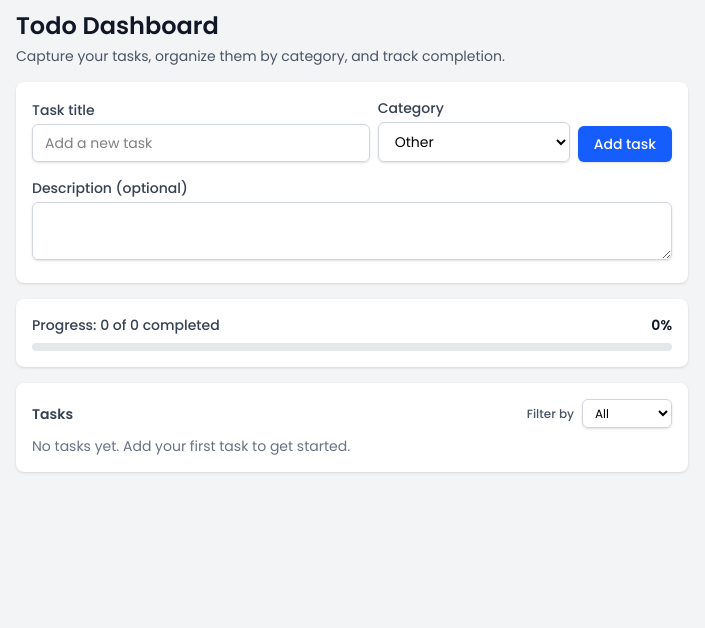
Test: TodoDashboard delete task › deletes correct task when multiple tasks exist
The image size is (705, 628).
Step 1. Type "Task 1" into the field labelled "Task title" → (201, 143), box 32,124 -> 370,162
Step 2. Click the button "Add task" → (625, 144), box 578,126 -> 672,162
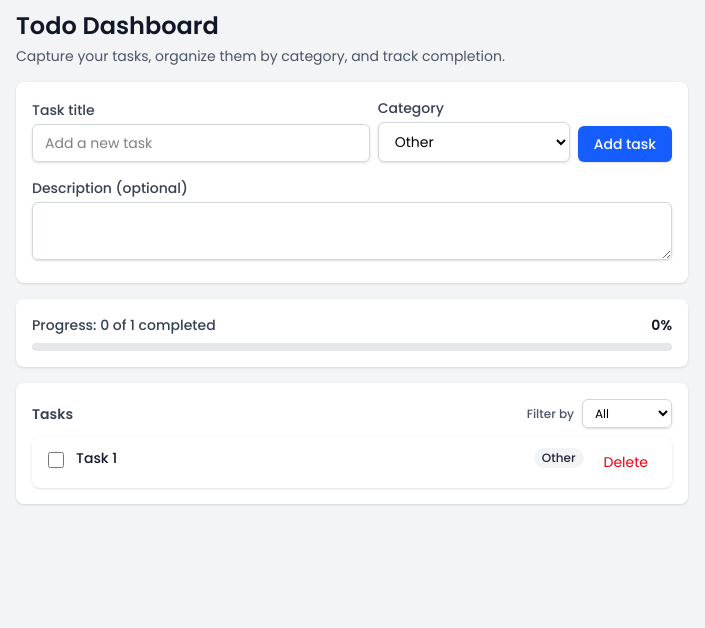
Step 3. Type "Task 2" into the field labelled "Task title" → (201, 143), box 32,124 -> 370,162
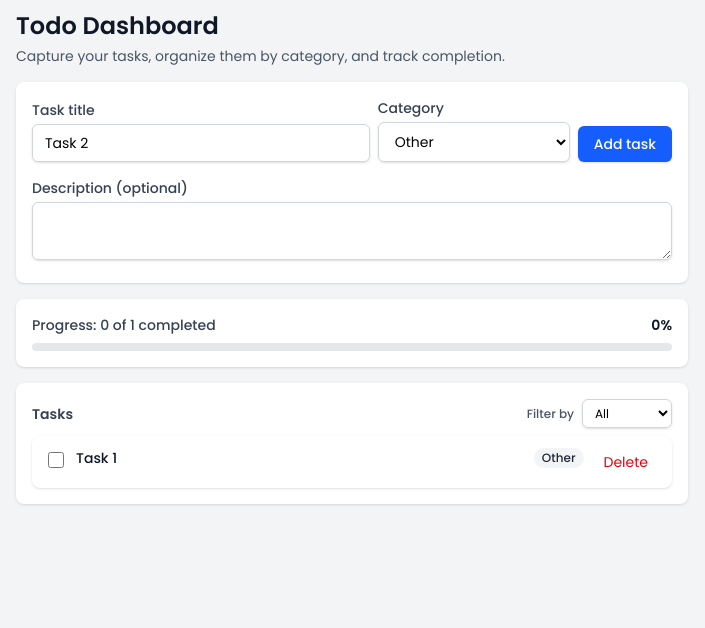
Step 4. Click the button "Add task" → (625, 144), box 578,126 -> 672,162
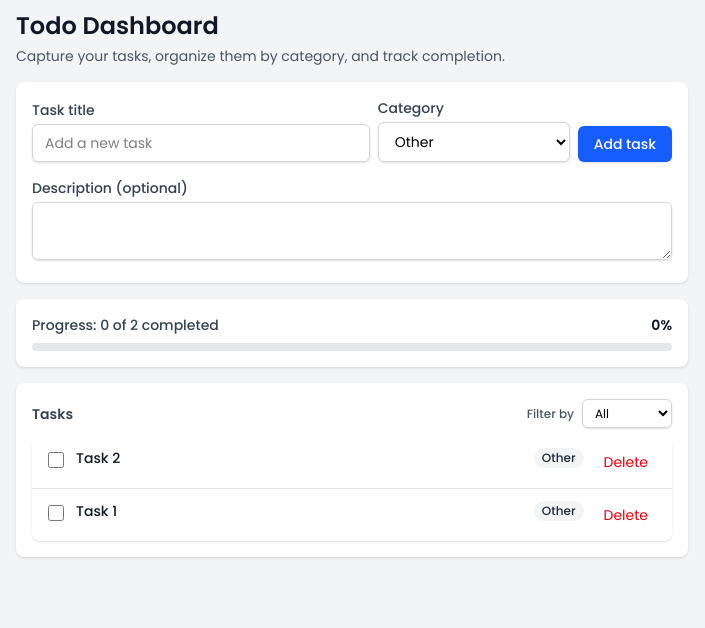
Step 5. Type "Task 3" into the field labelled "Task title" → (201, 143), box 32,124 -> 370,162
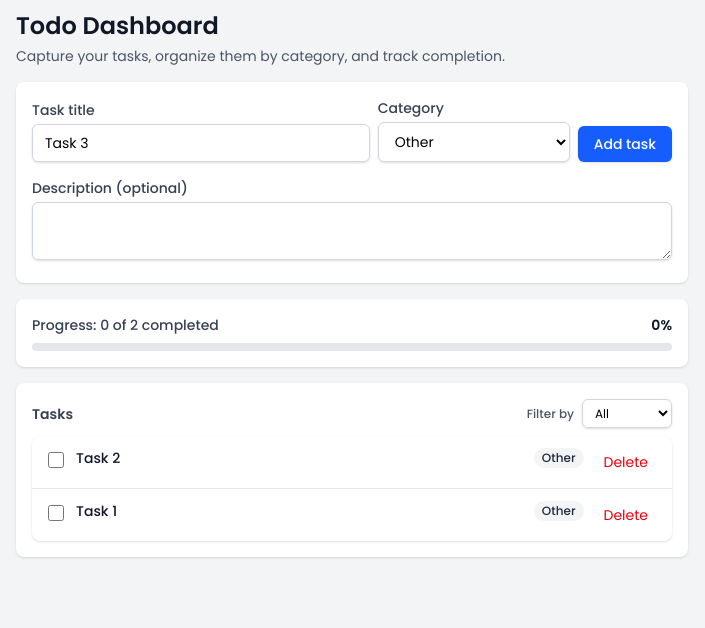
Step 6. Click the button "Add task" → (625, 144), box 578,126 -> 672,162
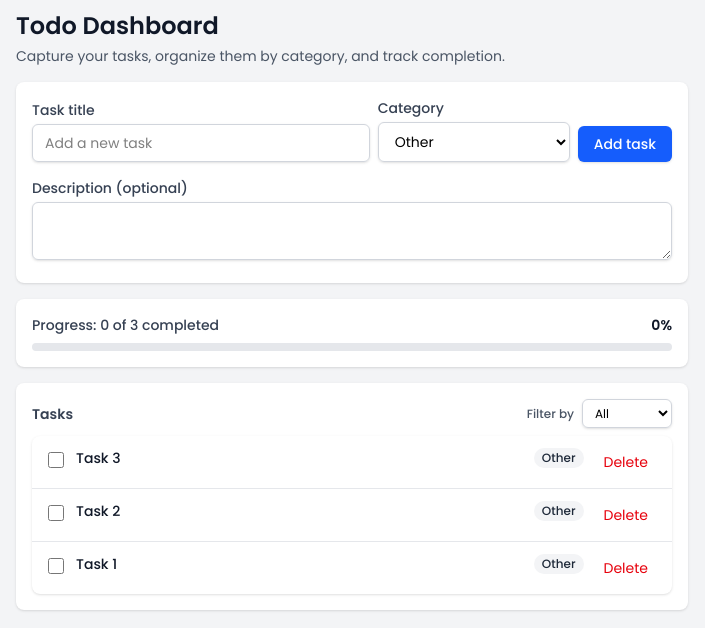
Step 7. Click the button with aria-label "delete task" → (626, 515), box 596,501 -> 656,529
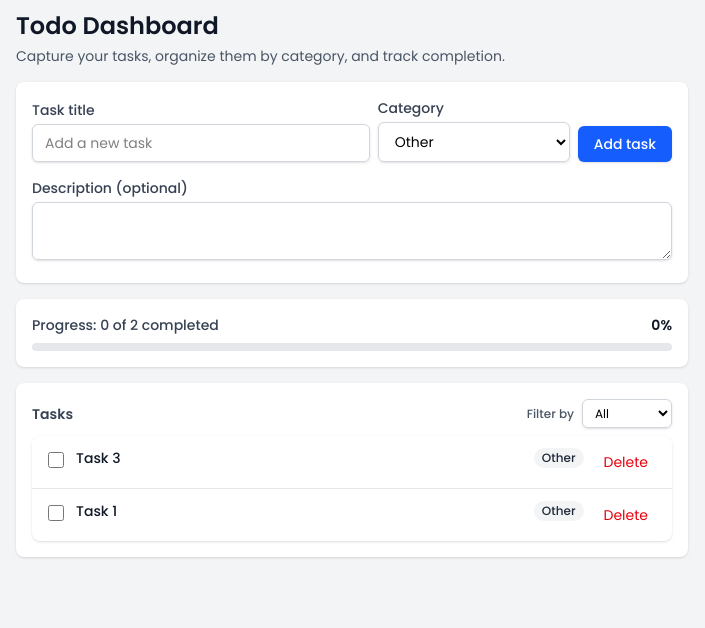
Result: the text "Task 1" is shown at 76,501 -> 117,521
Result: the text "Task 3" is shown at 76,448 -> 121,468
Result: the text "Task 2" is gone
